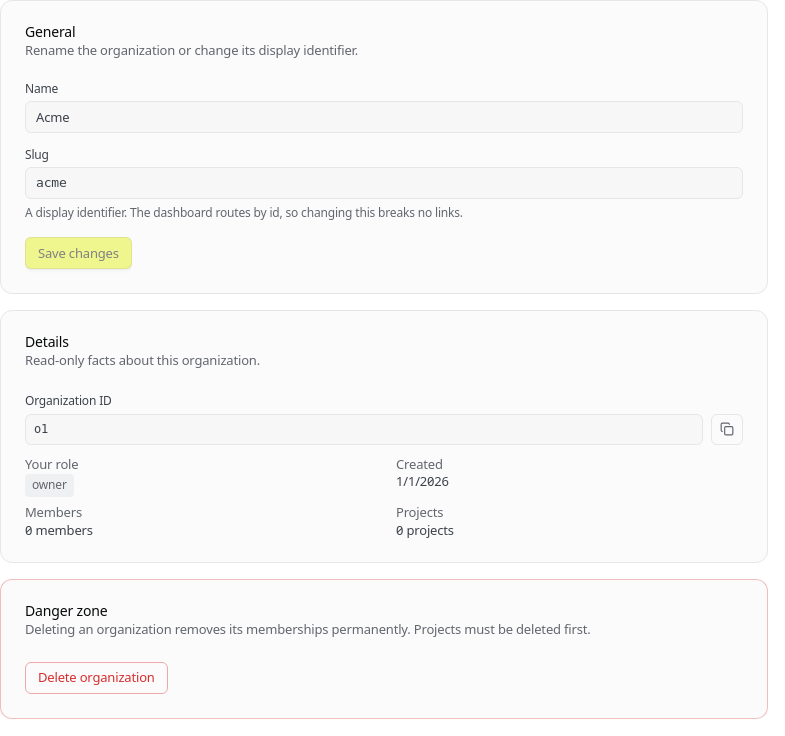
Test case: OrgSettingsPanel › lands a 409 on the slug field, not a page banner
Replace the text in the field labelled "Slug" with "taken" at (384,183), box [25,167,743,199]
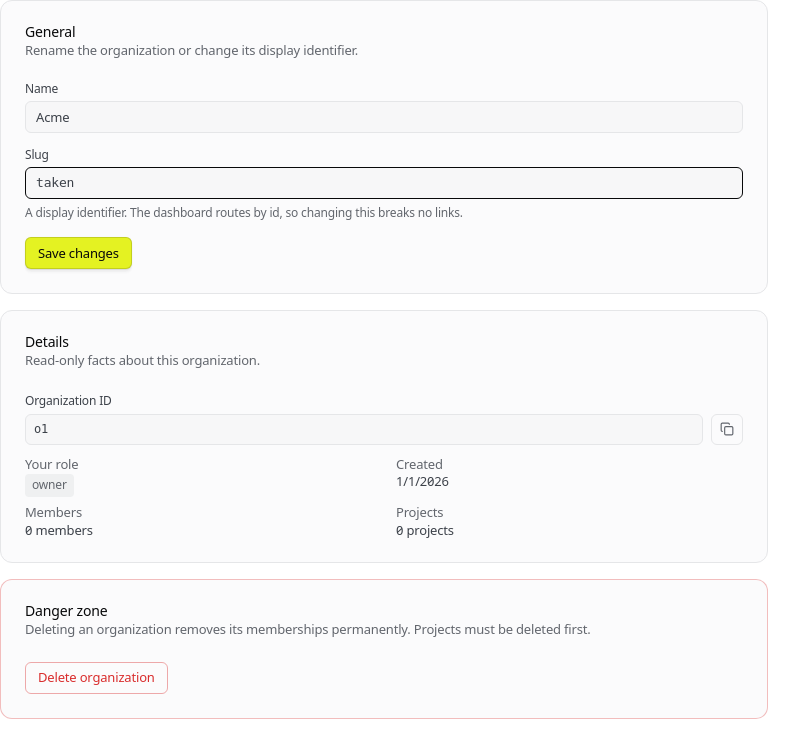
Click the button "Save changes".
click(78, 253)  # box [25,237,132,269]
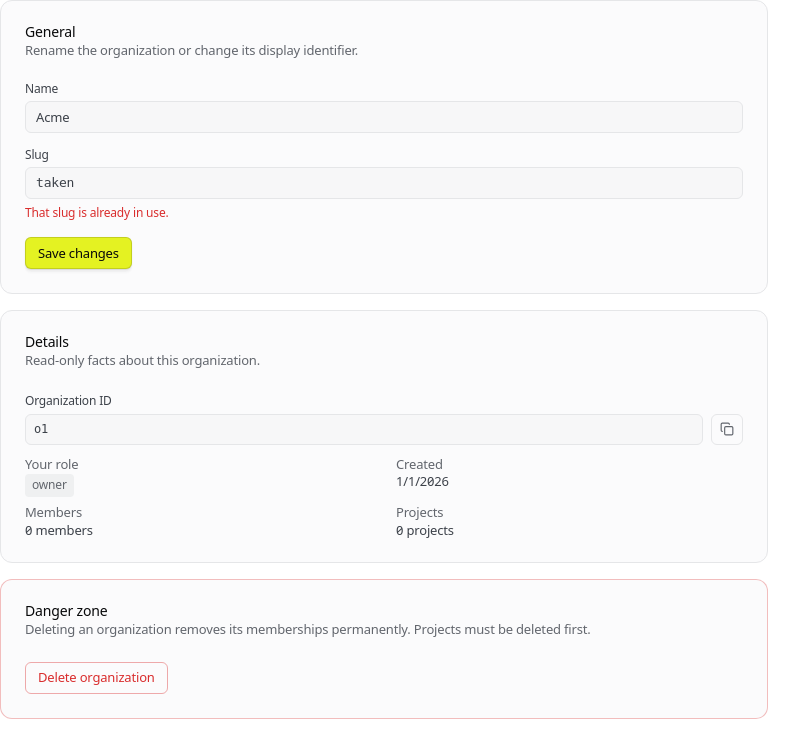
Check: the message shows "already in use", box [25,204,168,221]
